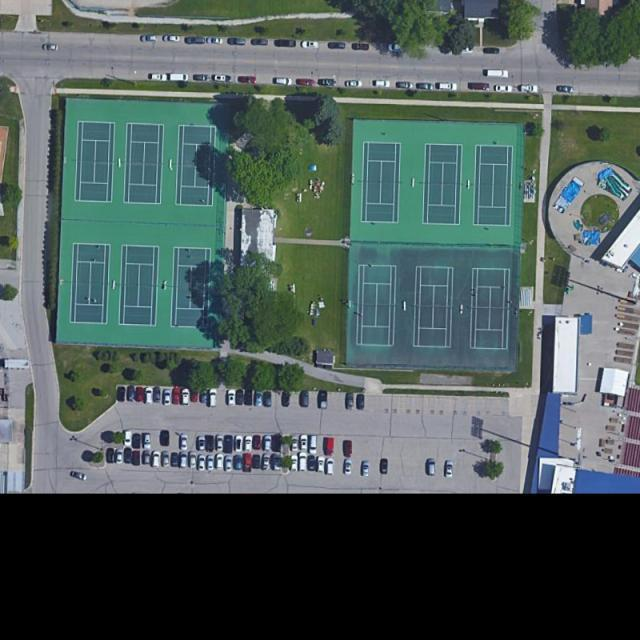vehicle: (324, 436, 337, 457), (298, 452, 309, 473), (388, 42, 408, 53), (281, 434, 292, 454), (271, 434, 282, 454), (466, 82, 490, 91), (486, 69, 510, 78), (275, 39, 298, 48), (438, 81, 458, 91), (243, 454, 253, 474), (234, 434, 244, 454), (426, 458, 437, 476), (281, 389, 292, 407), (262, 435, 273, 453), (144, 388, 155, 406), (171, 388, 182, 406), (224, 435, 234, 454), (244, 434, 254, 453), (152, 387, 162, 406), (237, 75, 258, 84), (556, 84, 574, 94), (309, 434, 318, 454), (169, 73, 189, 82), (70, 470, 86, 481), (344, 439, 353, 458), (326, 458, 335, 477), (150, 73, 169, 82), (262, 454, 271, 473), (316, 457, 326, 474), (254, 391, 264, 408), (179, 453, 189, 470), (160, 430, 170, 447), (244, 389, 254, 406), (252, 434, 262, 451), (272, 455, 282, 472), (126, 386, 136, 403), (162, 390, 172, 407), (352, 42, 370, 51), (396, 81, 414, 90), (446, 460, 455, 478), (42, 43, 60, 52), (163, 34, 181, 43), (225, 455, 234, 473), (206, 435, 215, 453), (301, 390, 310, 408), (290, 455, 299, 473), (296, 78, 316, 86), (252, 454, 262, 470), (116, 386, 126, 402), (135, 387, 145, 403), (344, 459, 353, 476), (308, 455, 317, 472), (302, 41, 319, 50), (357, 394, 366, 411), (180, 434, 189, 451), (206, 455, 215, 472), (235, 390, 244, 407), (106, 448, 115, 465), (209, 390, 218, 407), (181, 389, 190, 406), (482, 47, 501, 55), (318, 78, 337, 86), (415, 82, 434, 90), (520, 85, 539, 93), (228, 38, 247, 46), (320, 390, 328, 409), (374, 79, 390, 88), (494, 85, 512, 93), (275, 78, 293, 86), (216, 454, 225, 470), (216, 435, 225, 451), (198, 454, 206, 472), (227, 391, 236, 407), (263, 391, 272, 407), (234, 455, 243, 471), (186, 37, 206, 44), (170, 454, 180, 468), (124, 449, 134, 463), (362, 461, 370, 478), (329, 42, 346, 50), (251, 38, 268, 46), (141, 34, 158, 42), (162, 451, 170, 468), (144, 433, 152, 450), (152, 450, 160, 467), (133, 434, 142, 449), (346, 391, 353, 410), (194, 74, 210, 82), (124, 430, 132, 446), (302, 434, 309, 452), (190, 451, 197, 469), (381, 459, 389, 474), (198, 436, 206, 451), (143, 450, 151, 465), (133, 451, 141, 466), (292, 437, 300, 452), (190, 388, 198, 403), (457, 46, 474, 53), (345, 81, 362, 88), (214, 74, 228, 82), (116, 448, 123, 464), (201, 387, 208, 403), (208, 38, 223, 45)
